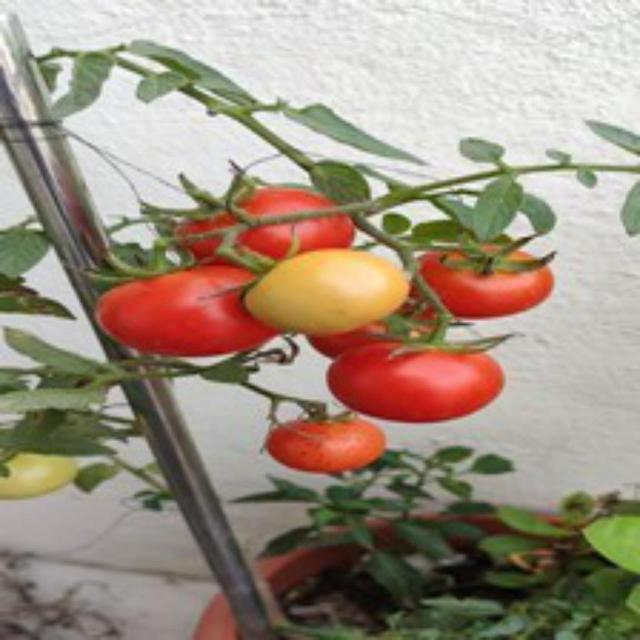tomato: (329, 328, 531, 424)
